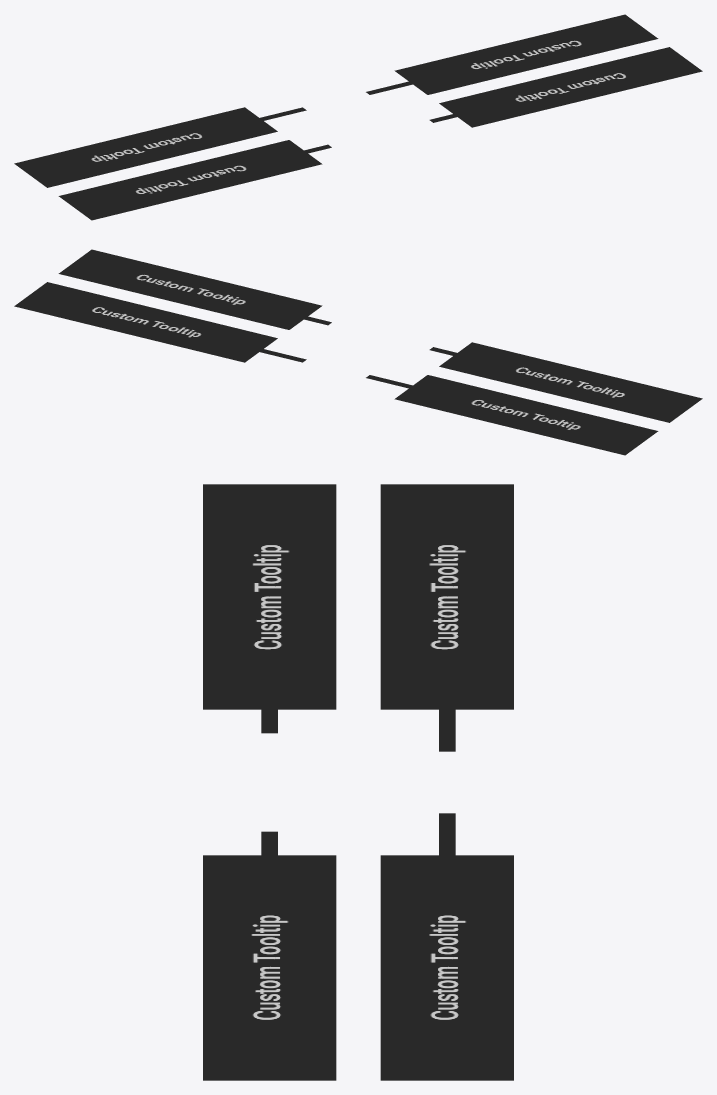
The model's file is ddtooltips.fbx.
The picture shows the model from 3 angles, top to bottom: view 1: azimuth 30°, elevation 25°; view 2: azimuth 150°, elevation 25°; view 3: azimuth 270°, elevation 25°; orthographic projection. The views are drawn at different scales.
Visible parts, largest first — view 1: tooltips; view 2: tooltips; view 3: tooltips.
Part boxes in pixels (x1,y1,x2,y2): tooltips: [14, 14, 702, 220]; tooltips: [14, 249, 702, 455]; tooltips: [203, 484, 513, 1080].
Bounding box in the file's own units: 21.18 × 0 × 4.67.
